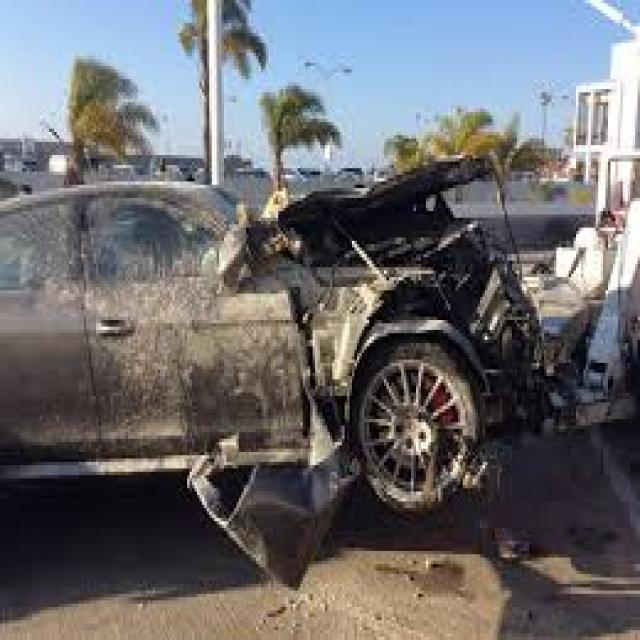severe: (5, 159, 587, 530)
